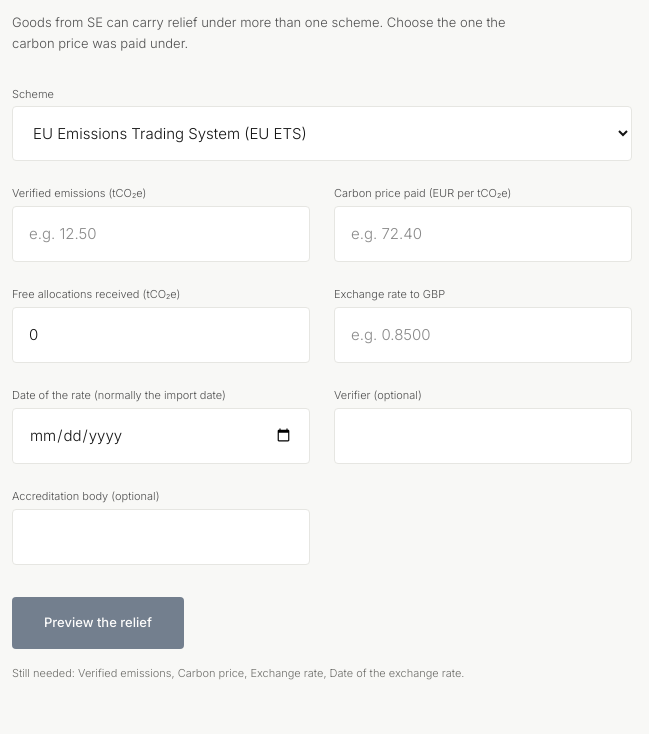
Test case: LineRelief › HMRC's exchange rate › says so when the month is not held, and leaves the rate to be typed
Type "2027-05-15" into the date field named "Date of the exchange rate" at (161,436), box 12,408 -> 310,464
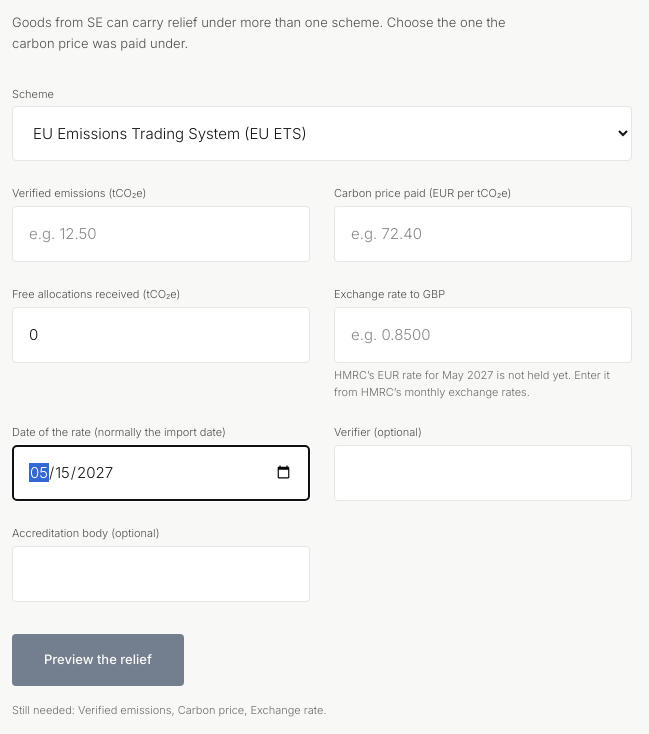
Check: the number field named "Exchange rate" is not empty, box 334,307 -> 632,363
Check: the text "May 2027 is not held yet" is shown, box 334,368 -> 610,399
